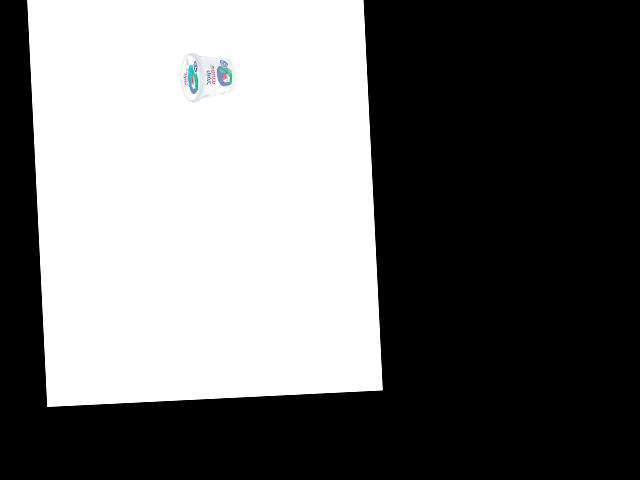cotage: (178, 52, 237, 104)
